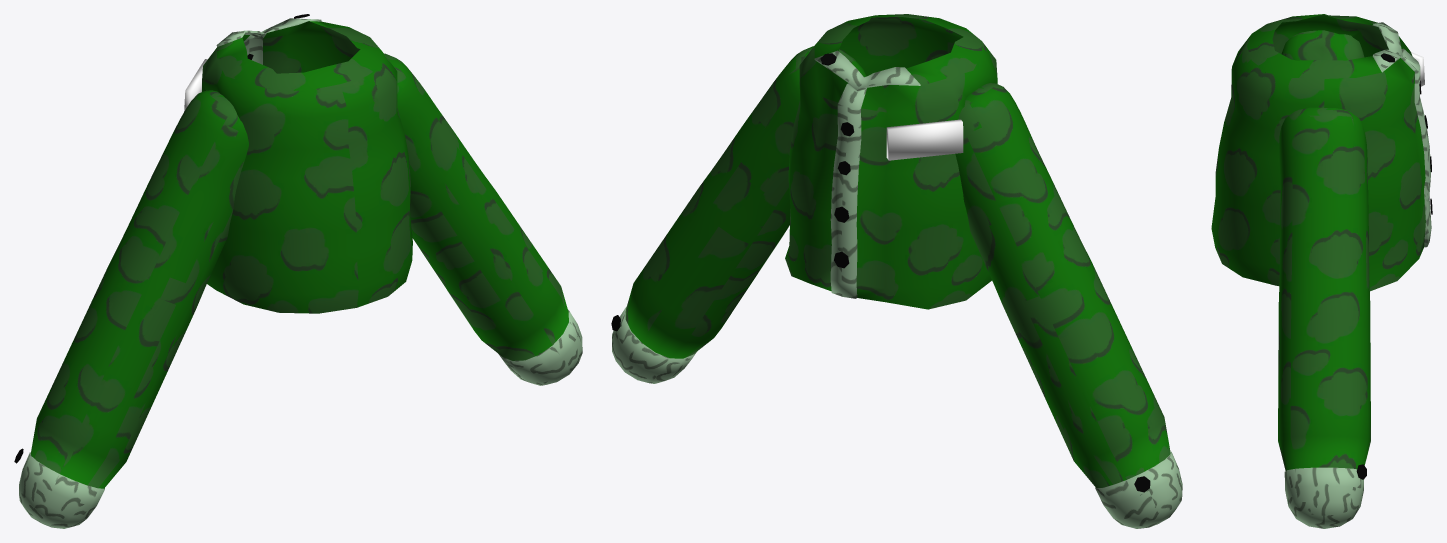
The model's file is item-war-shirt.glb.
3 views of the same model, side by side, from view 1: azimuth 30°, elevation 25°; view 2: azimuth 150°, elevation 25°; view 3: azimuth 270°, elevation 25° (orthographic). The views are drawn at different scales.
Size of the model in its own units: 0.0608 by 0.0442 by 0.0221.
Materials: 4 (2 with a texture image).
